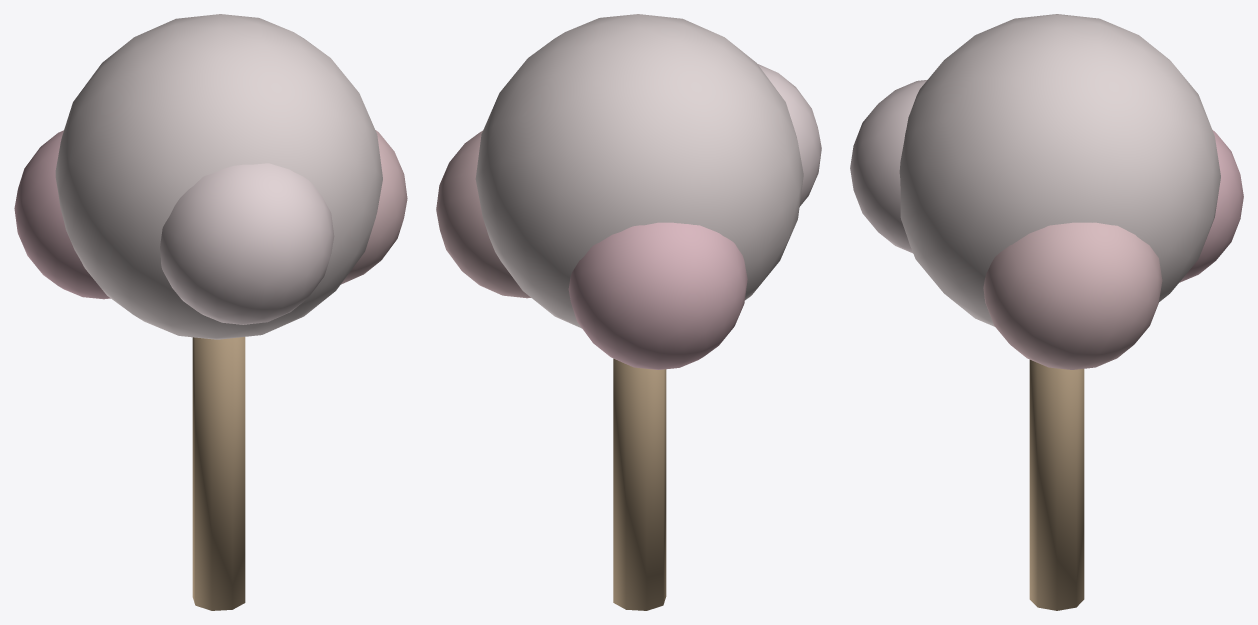
Rendered from plant_tree_apple_spring.glb.
3 views of the same model, side by side, from view 1: azimuth 30°, elevation 25°; view 2: azimuth 150°, elevation 25°; view 3: azimuth 270°, elevation 25° (orthographic).
Parts seen in each view (by area): view 1: crown_main, crown_sub1, trunk, crown_sub2, crown_sub0; view 2: crown_main, crown_sub2, trunk, crown_sub0, crown_sub1; view 3: crown_main, crown_sub0, trunk, crown_sub1, crown_sub2.
Boxes of the visible parts, x1,y1,x2,y2 form: crown_main: [55, 14, 382, 339]; crown_sub1: [160, 163, 334, 324]; trunk: [192, 337, 245, 610]; crown_sub2: [14, 130, 110, 299]; crown_sub0: [341, 130, 407, 284]; crown_main: [475, 14, 803, 328]; crown_sub2: [568, 222, 747, 369]; trunk: [613, 358, 666, 610]; crown_sub0: [436, 130, 530, 298]; crown_sub1: [758, 64, 821, 206]; crown_main: [899, 14, 1220, 326]; crown_sub0: [983, 222, 1162, 369]; trunk: [1029, 360, 1084, 610]; crown_sub1: [850, 80, 926, 253]; crown_sub2: [1179, 130, 1243, 282].
Size of the model in its own units: 0.9696 by 1.61 by 1.01.
